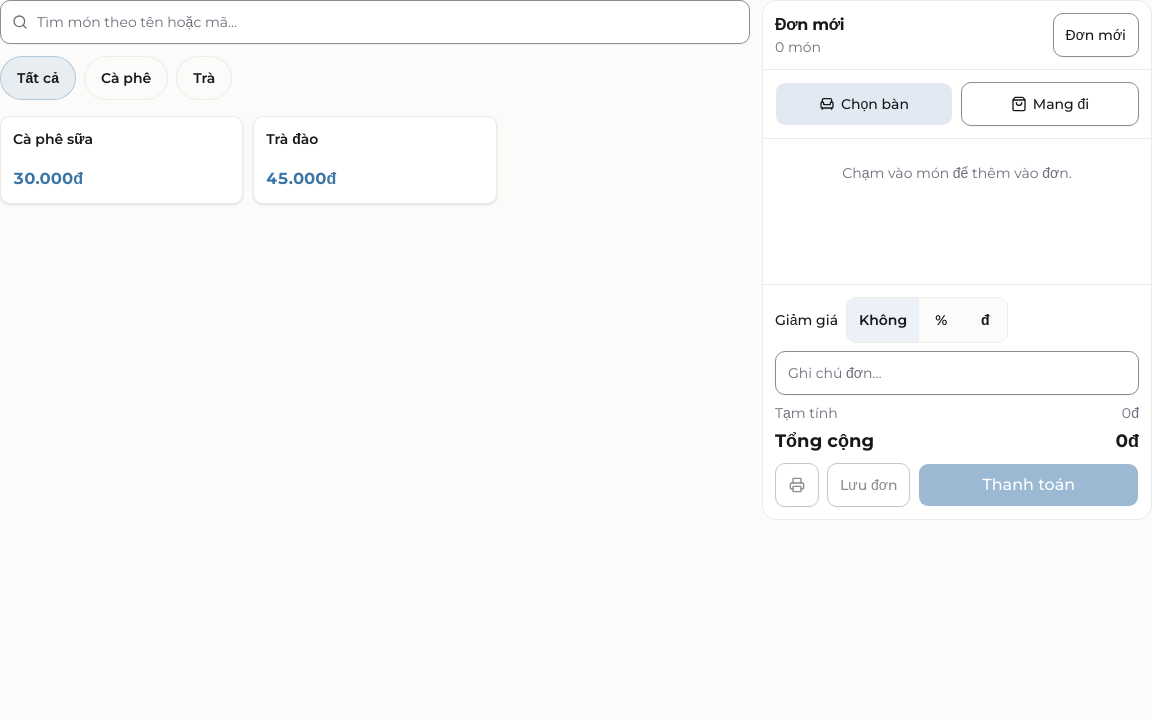
PosSell › chạm món có tuỳ chọn → hộp thoại chọn size → vào giỏ với giá cộng thêm
Step 1. Click the button "Cà phê sữa 30.000đ" → (122, 160), box [0,116,243,204]
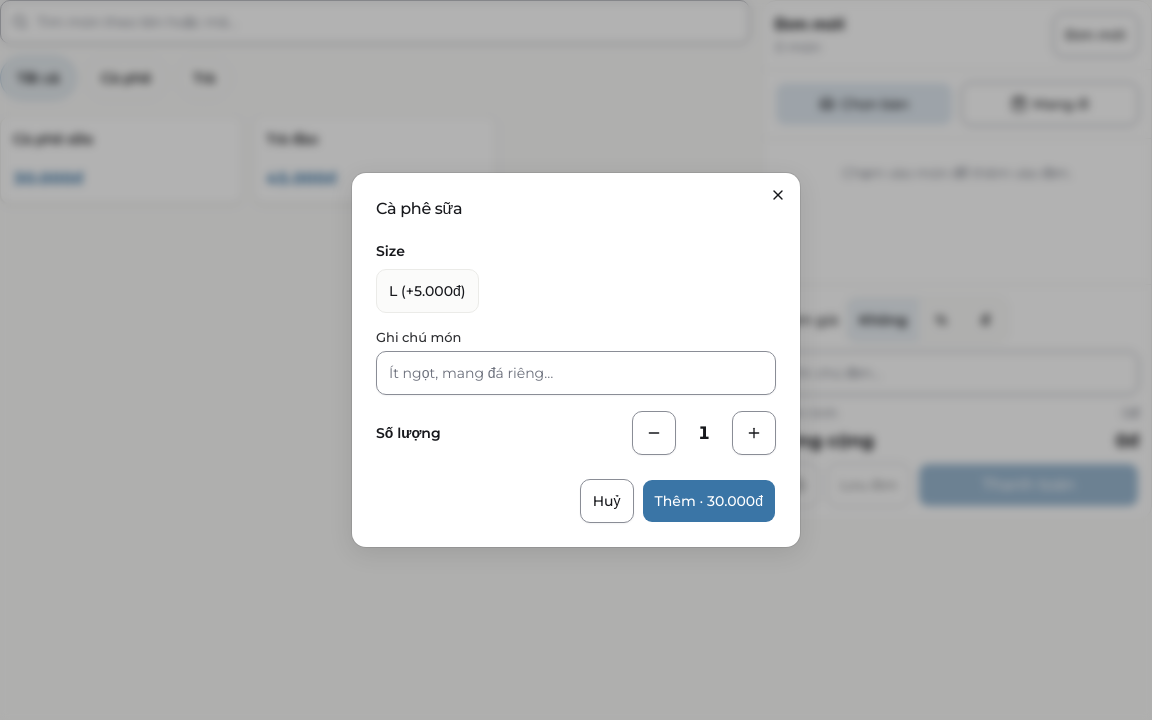
Step 2. Click the button "L (+5.000đ)" → (427, 291), box [376,269,478,313]
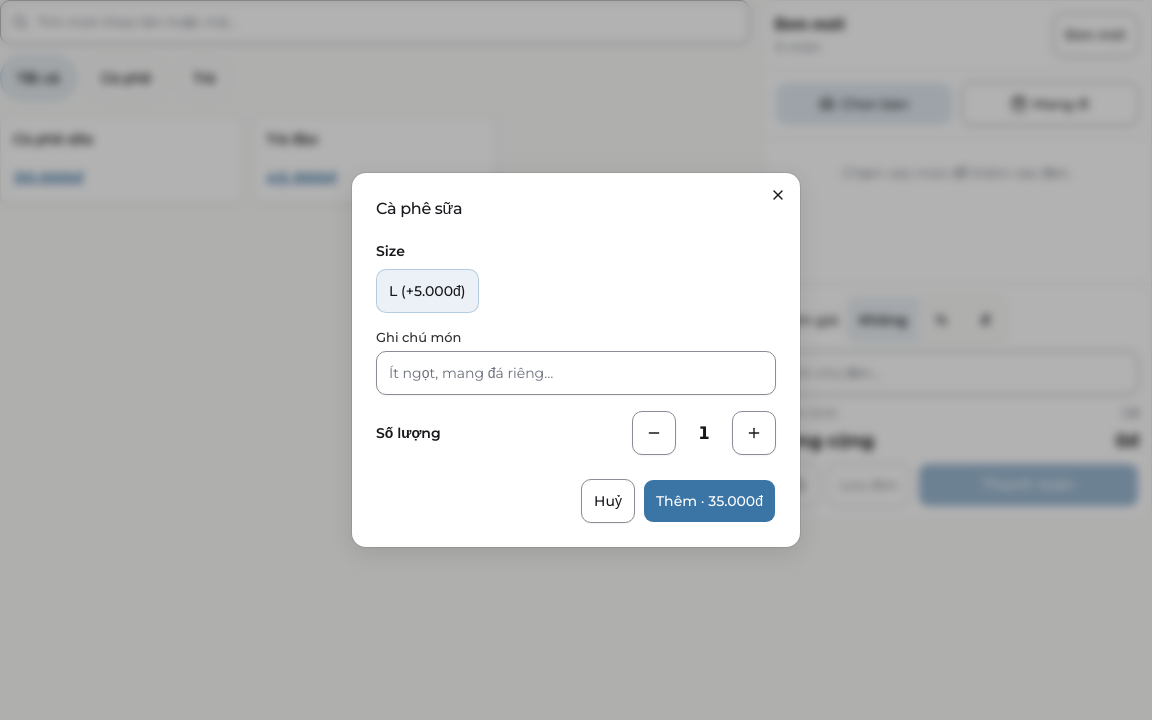
Step 3. Click the button "Thêm · 35.000đ" → (709, 501), box [643,479,776,523]
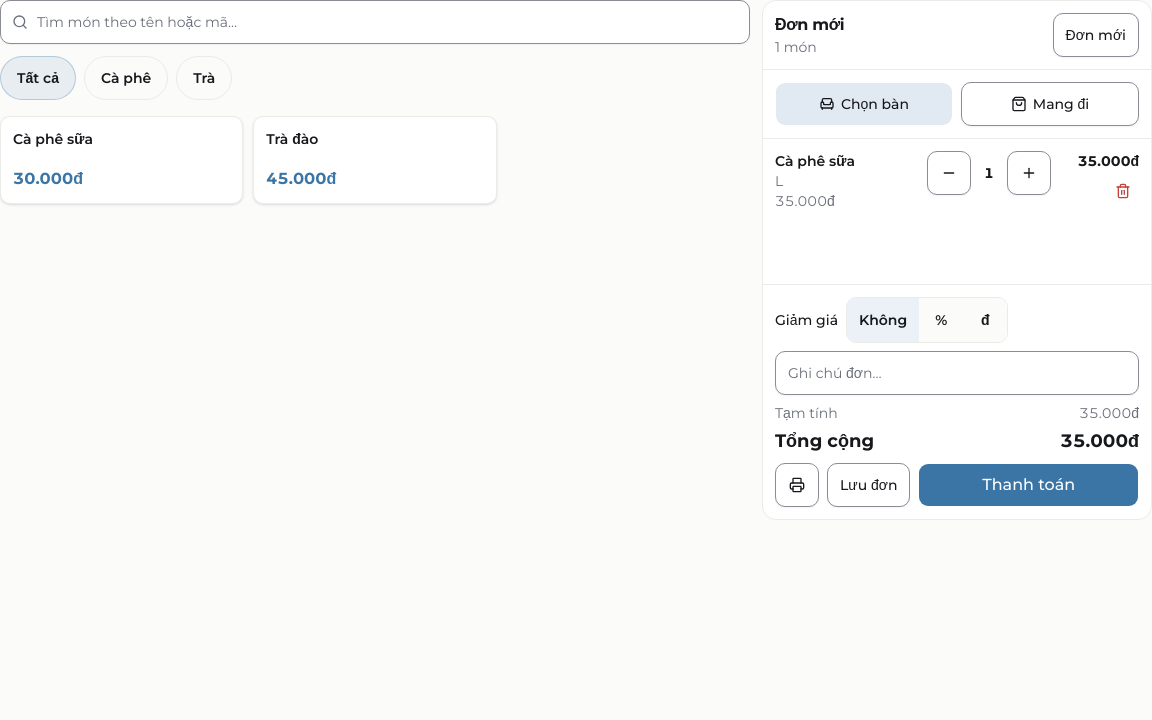
Expected: the element named "Giỏ hàng" shows "Cà phê sữa", [775,151,919,211]
Expected: the element named "Giỏ hàng" shows "35.000đ", [775,151,919,211]
